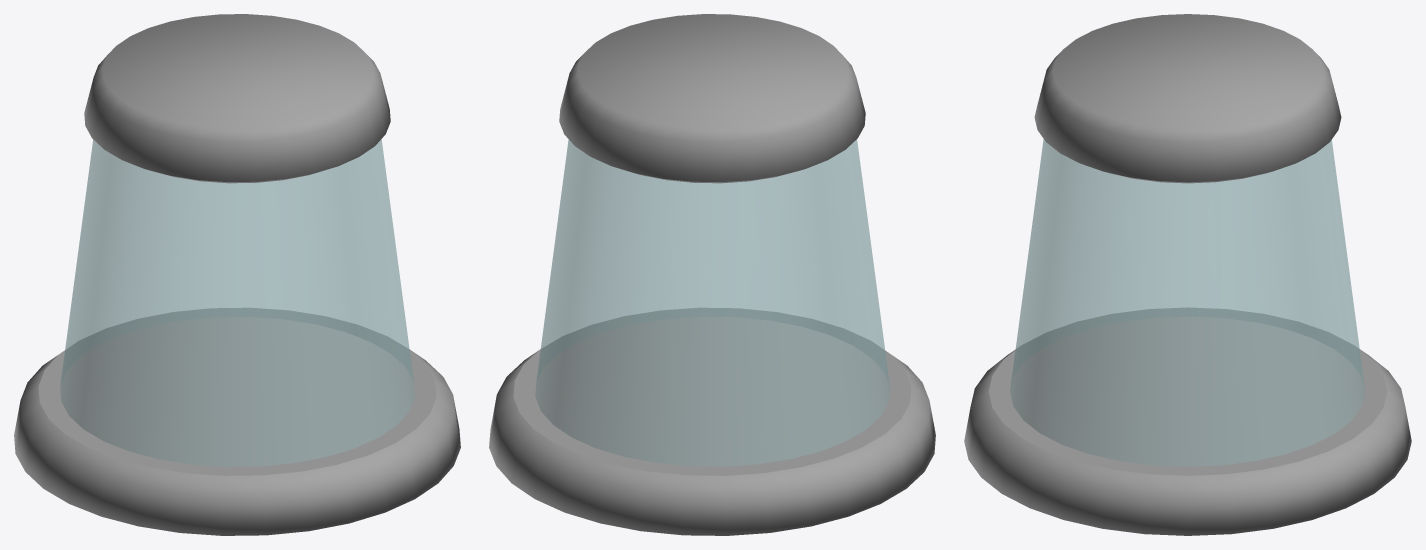
File: LaserReceiver.fbx
The picture shows the model from 3 angles, left to right: view 1: azimuth 30°, elevation 25°; view 2: azimuth 150°, elevation 25°; view 3: azimuth 270°, elevation 25°; orthographic projection.
Visible parts, largest first — view 1: Cylinder, Cylinder.001; view 2: Cylinder, Cylinder.001; view 3: Cylinder, Cylinder.001.
Part boxes in pixels (x1,y1,x2,y2): Cylinder: (14, 14, 460, 535); Cylinder.001: (60, 139, 414, 466); Cylinder: (489, 14, 935, 535); Cylinder.001: (535, 139, 889, 466); Cylinder: (964, 14, 1411, 535); Cylinder.001: (1010, 139, 1365, 466).
Size of the model in its own units: 216 by 198 by 216.
